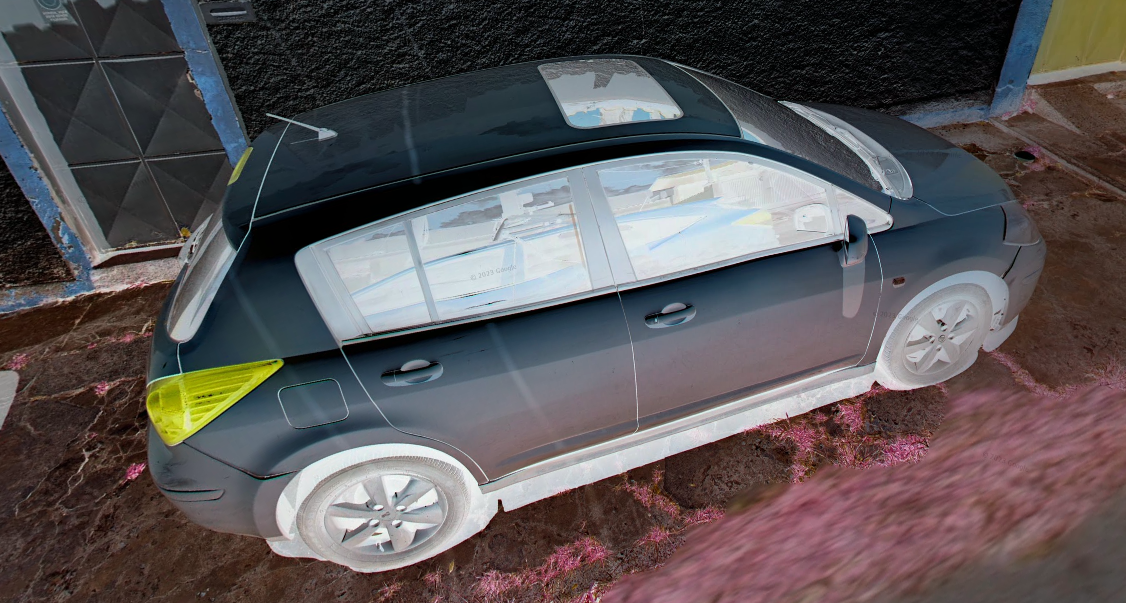car: (139, 55, 1049, 570)
